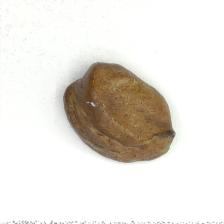NG: (92, 61, 178, 143)
